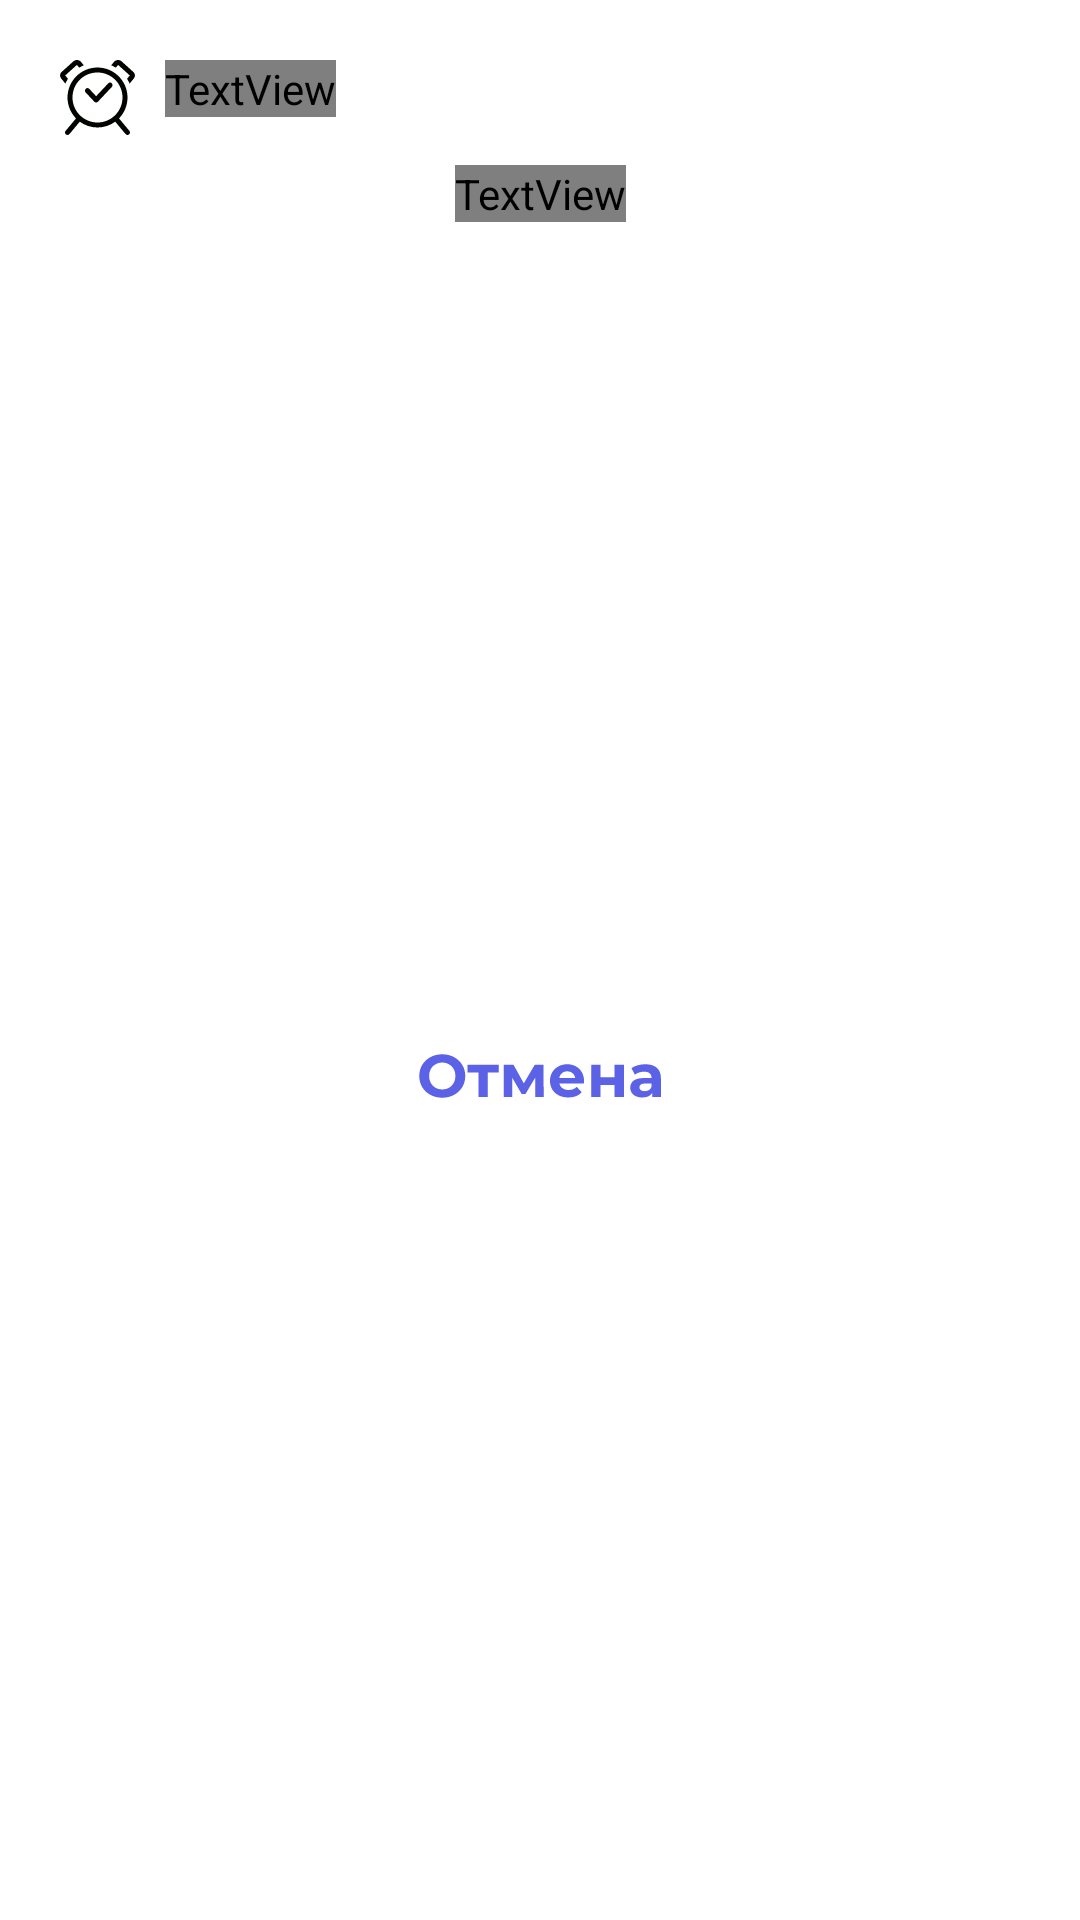

Icons on this 1080w x 1920h Android screen, each with its box as (x1, y1, x2, y2):
alarm dialog: (60, 60, 135, 135)
